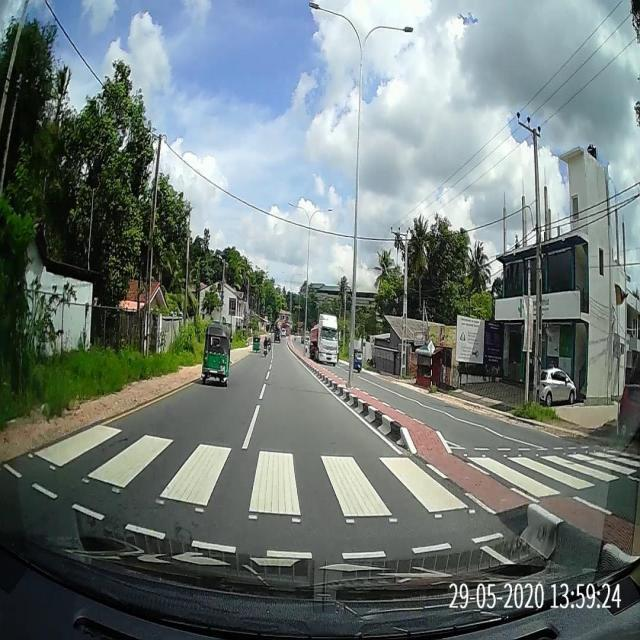Crosswalk: (0, 421, 640, 572)
